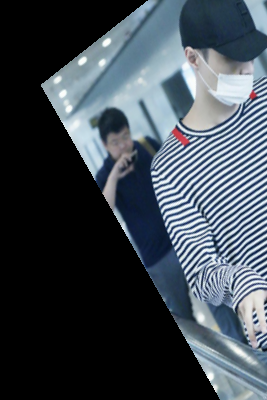mask_weared_incorrect: (163, 3, 267, 125)
